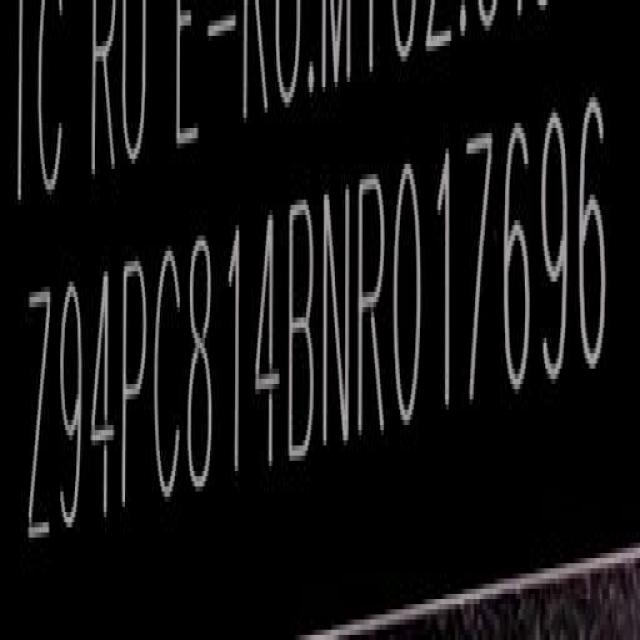0: (395, 167, 425, 434)
1: (433, 146, 453, 420), (228, 221, 246, 486)
4: (256, 214, 284, 475), (91, 266, 117, 529)
6: (580, 91, 612, 377), (503, 117, 533, 399)
7: (462, 124, 493, 412)
8: (188, 237, 216, 499)
9: (541, 113, 572, 392), (56, 276, 83, 538)
B: (290, 194, 319, 465)
C: (152, 246, 180, 505)
N: (320, 178, 352, 453)
P: (119, 263, 150, 519)
R: (356, 171, 388, 446)
Z: (25, 282, 54, 558)
